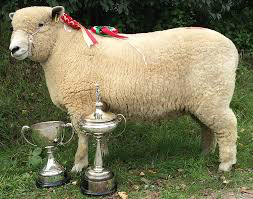koyun: (8, 4, 239, 172)
